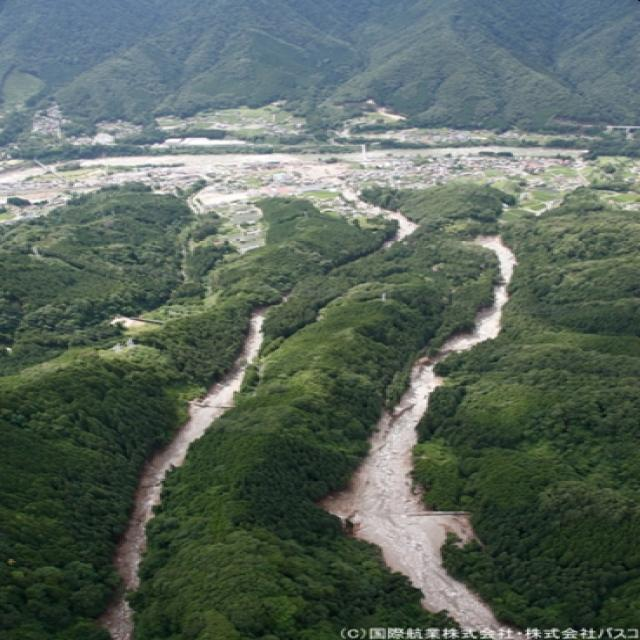Debris-flow: (321, 236, 527, 640), (99, 308, 263, 639)
